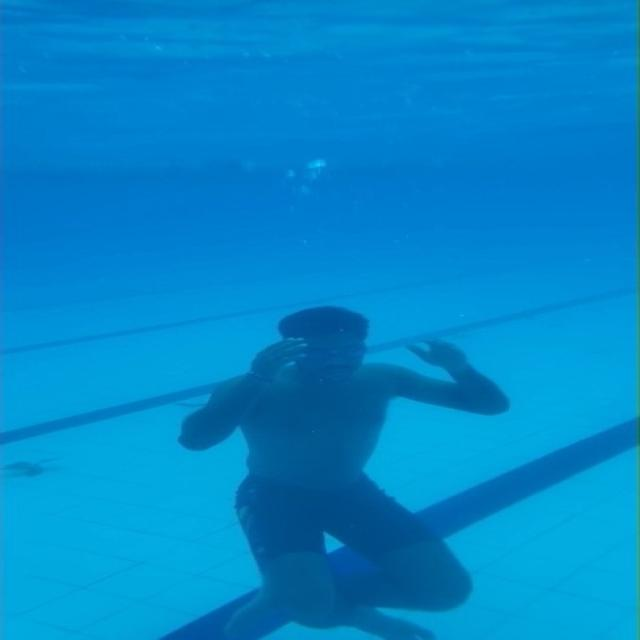Drowning: (185, 309, 509, 640)
